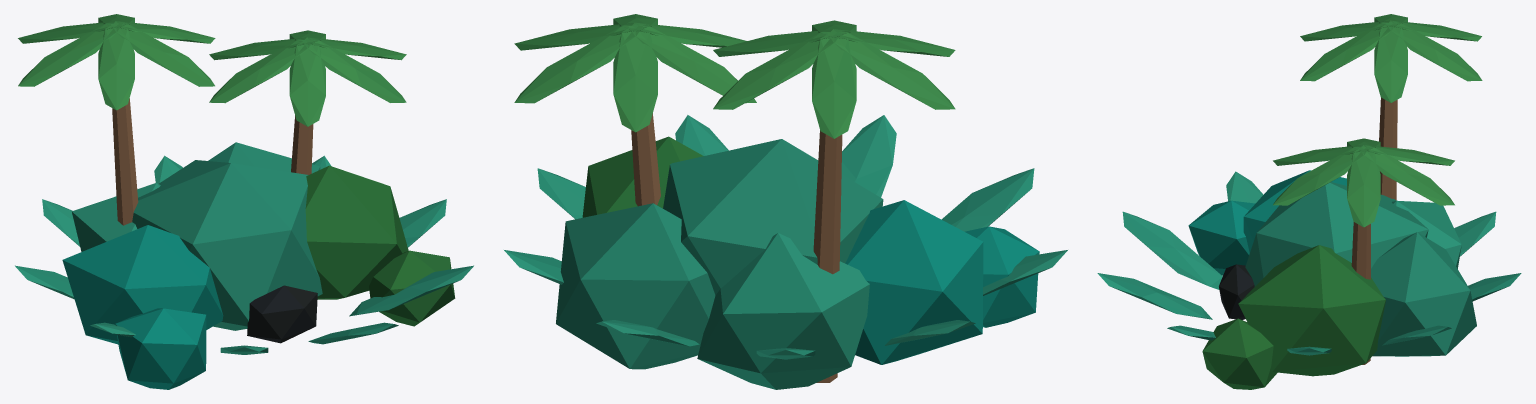
The model's file is lair-jungle.glb.
The picture shows the model from 3 angles, left to right: view 1: azimuth 30°, elevation 25°; view 2: azimuth 150°, elevation 25°; view 3: azimuth 270°, elevation 25°; orthographic projection. The views are drawn at different scales.
Visible parts, largest first — view 1: lair-jungle; view 2: lair-jungle; view 3: lair-jungle.
Part boxes in pixels (left/top/right/bottom): lair-jungle: left=15, top=14, right=473, bottom=389; lair-jungle: left=504, top=14, right=1067, bottom=389; lair-jungle: left=1097, top=14, right=1521, bottom=389.
Bounding box in the file's own units: 5.07 × 3.53 × 5.15.
